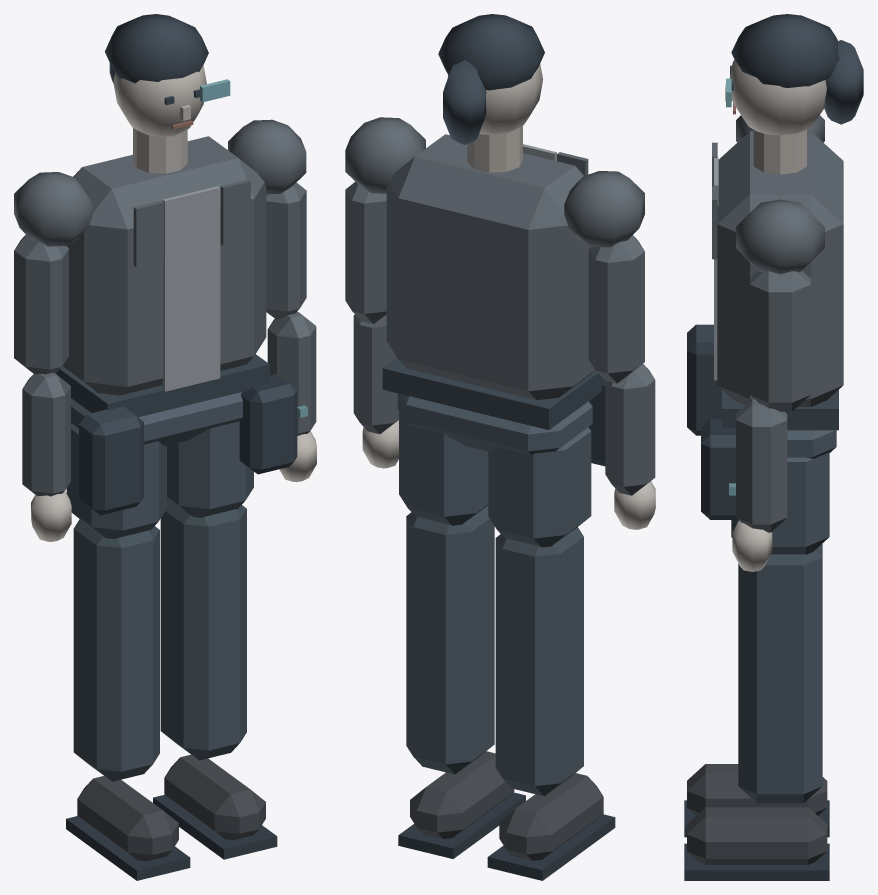
Rendered from personaje_mara.glb.
The picture shows the model from 3 angles, left to right: view 1: azimuth 30°, elevation 25°; view 2: azimuth 150°, elevation 25°; view 3: azimuth 270°, elevation 25°; orthographic projection. The views are drawn at different scales.
Size of the model in its own units: 0.72 by 1.95 by 0.3826.
